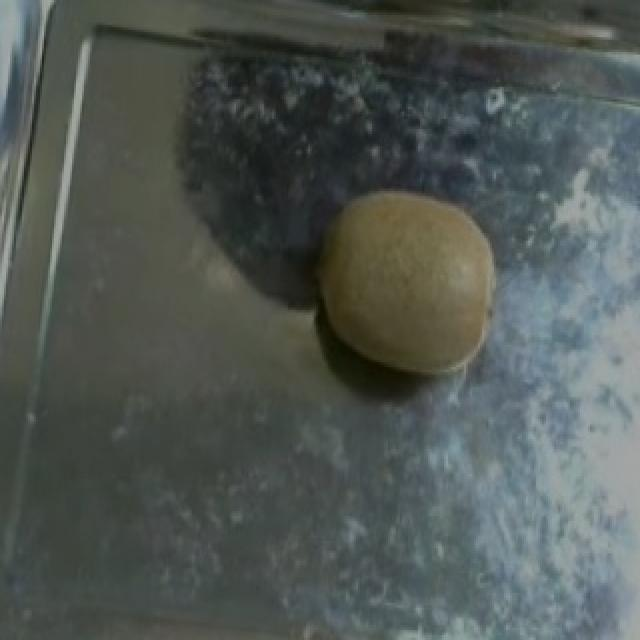Fruit: (286, 164, 518, 397)
